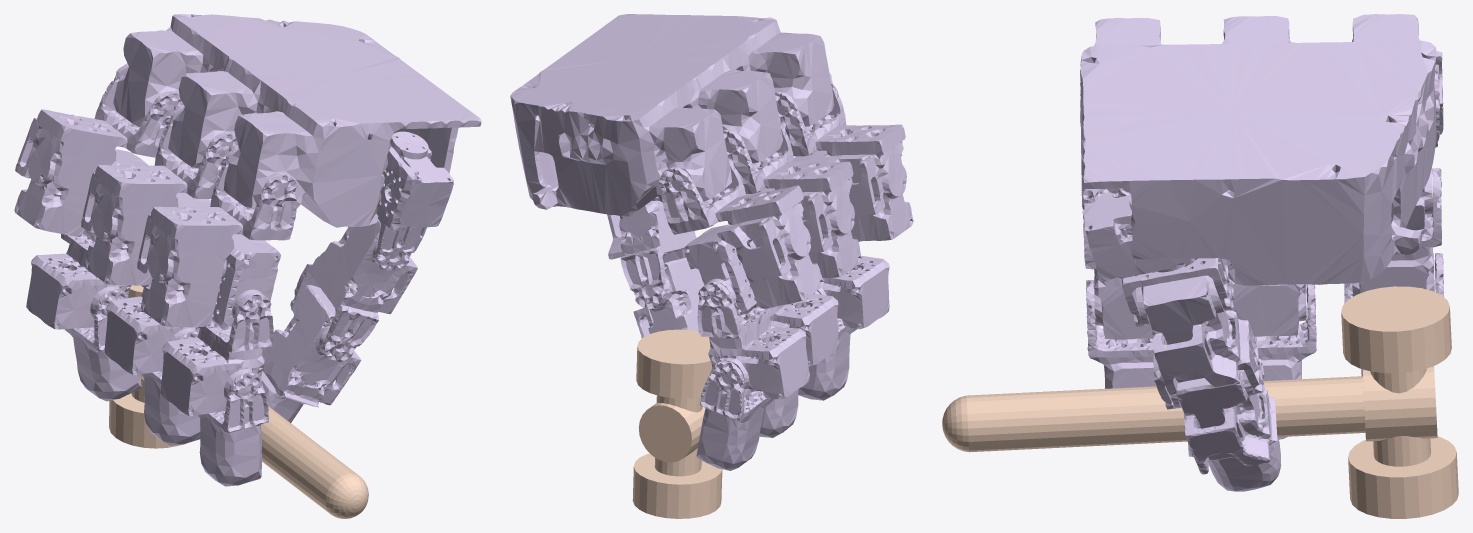
The model's file is 52afc7448e348d-final.glb.
3 views of the same model, side by side, from view 1: azimuth 30°, elevation 25°; view 2: azimuth 150°, elevation 25°; view 3: azimuth 270°, elevation 25° (orthographic). The views are drawn at different scales.
Parts seen in each view (by area): view 1: LEAP_hand, world; view 2: LEAP_hand, world; view 3: LEAP_hand, world.
Part boxes in pixels (left/top/right/bottom): LEAP_hand: left=14, top=14, right=481, bottom=486; world: left=109, top=285, right=368, bottom=518; LEAP_hand: left=510, top=14, right=913, bottom=470; world: left=632, top=329, right=856, bottom=518; LEAP_hand: left=1080, top=14, right=1443, bottom=491; world: left=942, top=286, right=1458, bottom=518.
Bounding box in the file's own units: 0.157 × 0.1825 × 0.1803.
